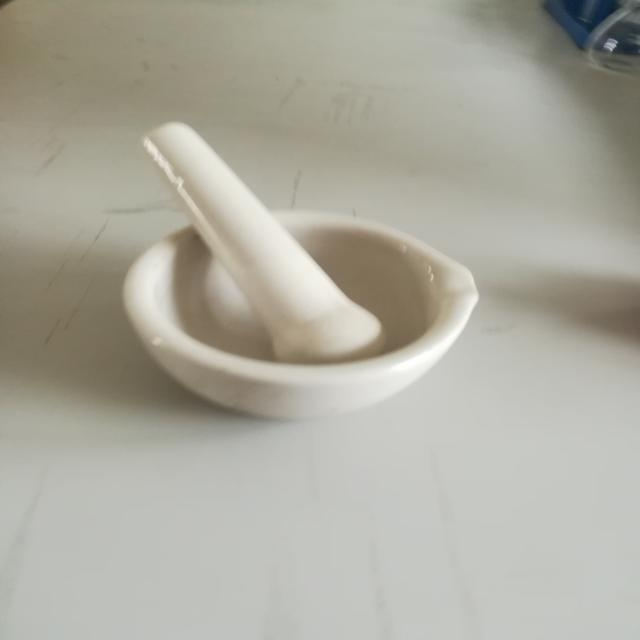Porcelain_Mortar Pestle: (67, 85, 500, 457)
